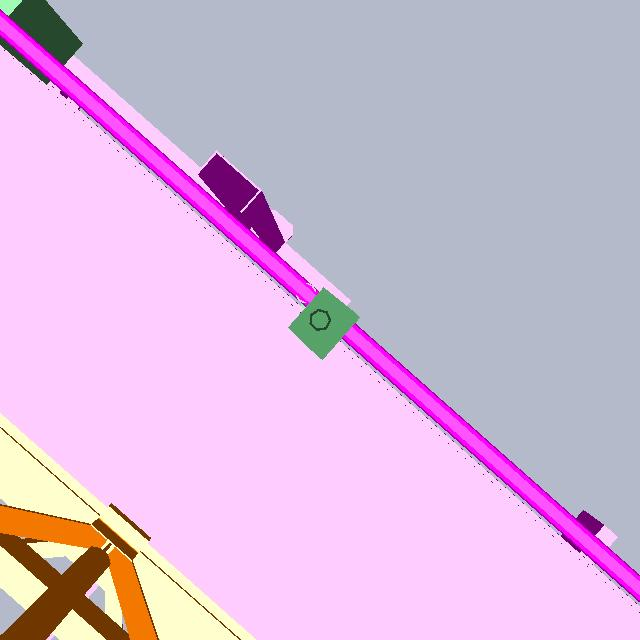Poste: (305, 306, 335, 335)
Soporte: (185, 142, 309, 271)
